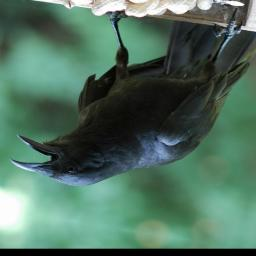Crow: (6, 0, 256, 212)
